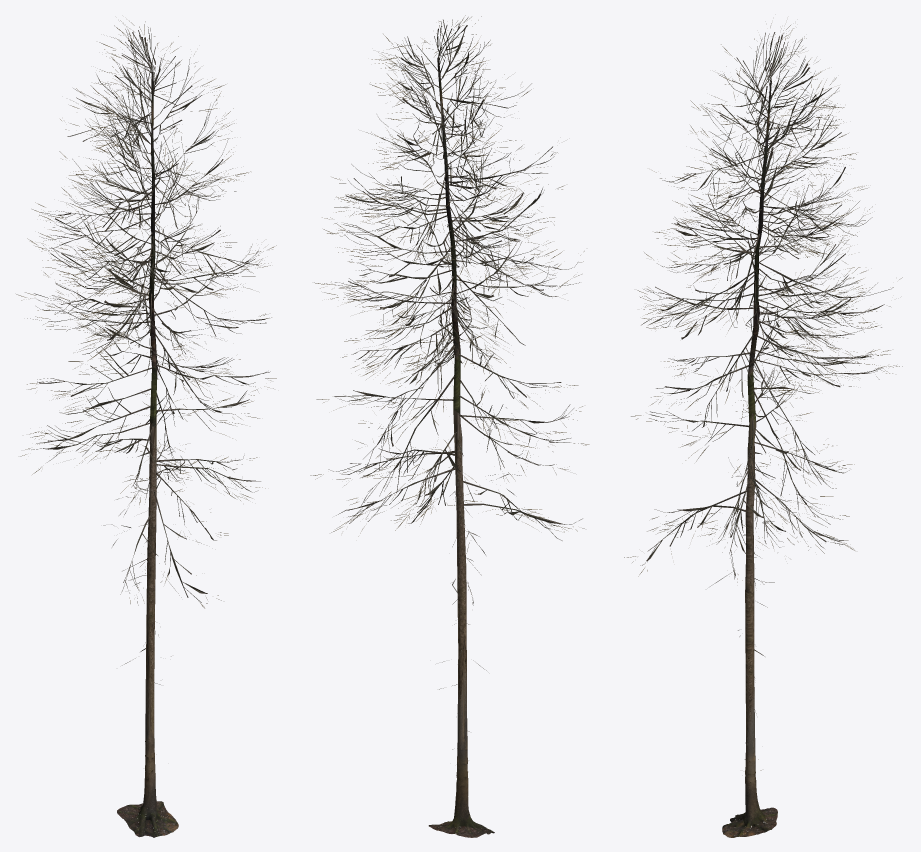
File: fir.glb
3 renders of one model, left to right at view 1: azimuth 30°, elevation 25°; view 2: azimuth 150°, elevation 25°; view 3: azimuth 270°, elevation 25°, orthographic. The views are drawn at different scales.
Parts seen in each view (by area): view 1: fir; view 2: fir; view 3: fir.
Part boxes in pixels (x1,y1,x2,y2): fir: (16,20,276,837); fir: (310,15,589,837); fir: (624,23,902,837).
Bounding box in the file's own units: 6.3 × 18.77 × 5.98.
Materials: 4 (4 with a texture image).
